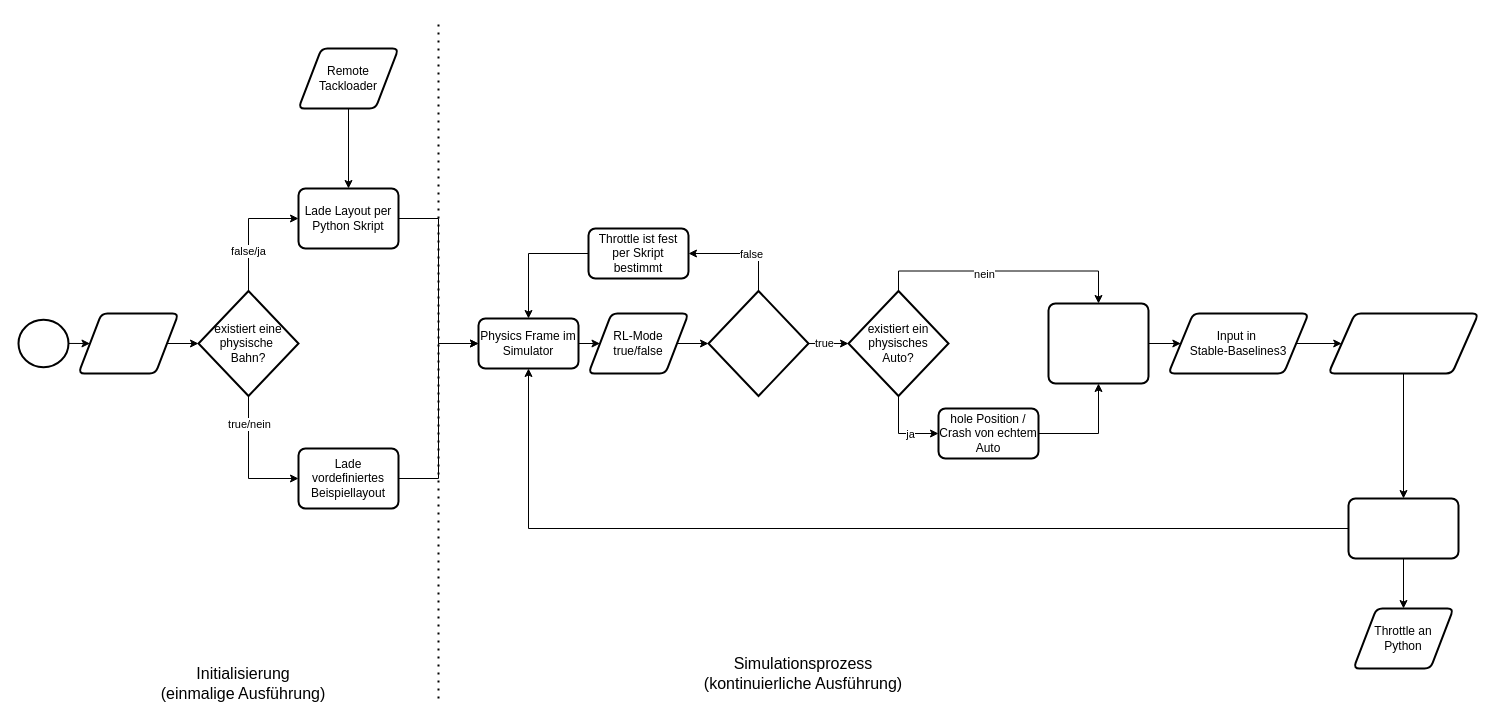
Image size: 1496x725. Some labels were removed from this diagram. The centre of each missing label's shape, as x and y in pixels:
befinden wir uns im RL-Modus?: the point at 758,343
Position / Crash des Autos bestimmen (echtes Auto hat Priorität): the point at 1098,343
Testmode true/false: the point at 128,343
Throttle Output aus Stable-Baselines3: the point at 1403,343
Throttle per Python an Auto und an nächstes Simulations-Frame: the point at 1403,528
